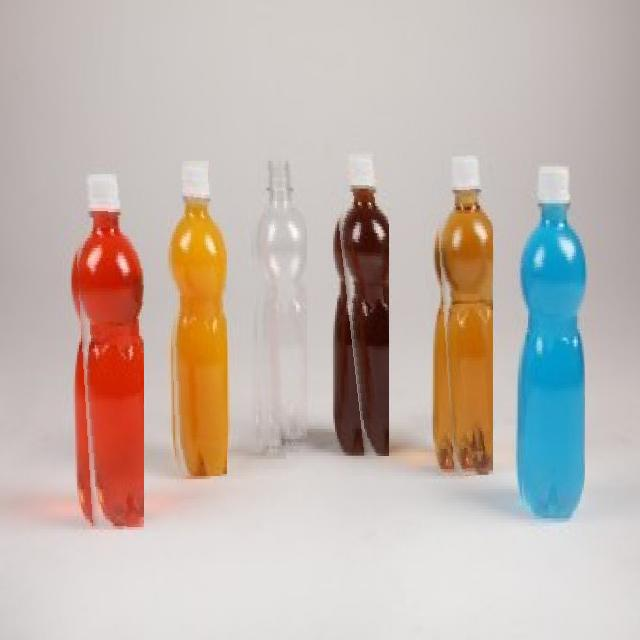plastic bottle: (72, 174, 144, 530), (518, 161, 586, 523), (433, 154, 493, 476), (168, 161, 228, 476), (332, 154, 389, 456), (248, 160, 307, 446)
